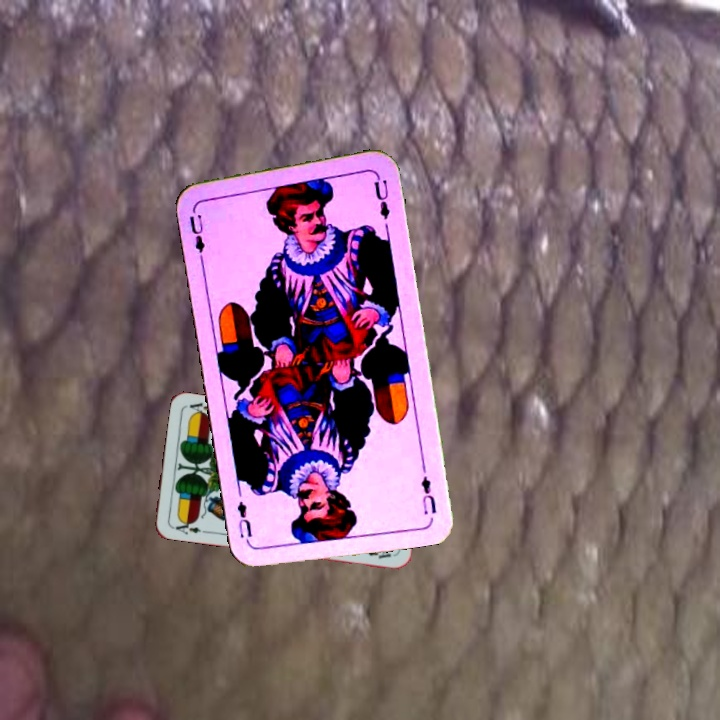EA: (168, 516, 208, 537)
EU: (184, 210, 208, 255), (416, 472, 439, 517)
